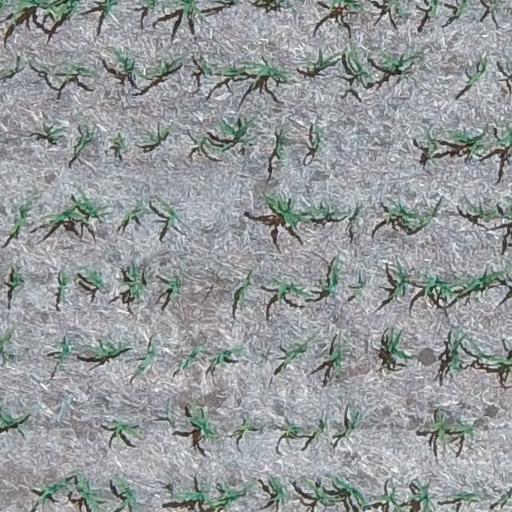planta: (45, 194, 105, 228), (261, 192, 312, 229), (382, 200, 438, 230), (328, 475, 371, 510), (336, 42, 373, 82), (426, 415, 476, 444), (70, 469, 104, 511), (300, 477, 346, 507), (461, 268, 507, 298), (211, 481, 255, 511), (447, 128, 489, 159), (243, 59, 291, 86), (186, 402, 218, 442), (169, 483, 217, 509), (7, 193, 36, 236), (214, 117, 254, 147), (417, 272, 458, 301), (34, 474, 72, 505), (376, 48, 418, 73), (316, 258, 343, 296), (269, 278, 310, 303), (110, 47, 143, 78), (121, 262, 146, 301), (113, 475, 140, 511), (142, 57, 180, 82), (381, 329, 411, 360), (446, 328, 467, 372), (324, 334, 346, 376), (62, 61, 97, 85), (89, 339, 129, 360), (280, 339, 311, 366), (109, 419, 139, 446), (155, 197, 181, 228), (210, 345, 245, 368), (136, 336, 157, 374), (337, 408, 362, 439), (296, 202, 341, 219), (388, 265, 409, 299), (177, 343, 204, 369), (465, 57, 488, 87), (265, 475, 288, 505), (119, 201, 146, 226), (466, 201, 501, 220), (194, 135, 230, 153), (144, 124, 173, 146), (72, 126, 94, 153), (303, 54, 335, 72), (423, 128, 440, 161), (281, 421, 306, 443), (54, 338, 75, 363), (449, 490, 482, 505), (235, 277, 251, 307), (165, 274, 183, 300), (233, 418, 254, 439), (219, 63, 248, 78), (84, 268, 104, 289), (57, 270, 71, 300), (7, 265, 23, 291), (40, 123, 63, 140), (306, 423, 327, 441), (274, 133, 287, 161), (44, 69, 65, 86), (110, 131, 127, 151), (310, 126, 323, 151), (199, 58, 213, 76), (349, 205, 362, 220), (352, 281, 364, 296)
